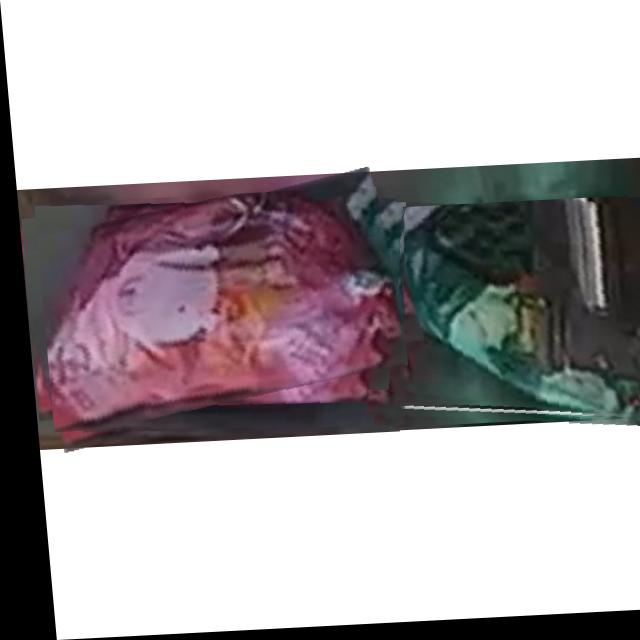general_trashbag: (379, 207, 640, 426)
other_trashbag: (42, 196, 400, 433)
